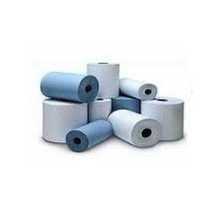tissue: (101, 104, 166, 150), (37, 94, 90, 147), (137, 92, 188, 145), (34, 67, 101, 106), (61, 114, 116, 155), (81, 58, 124, 102), (113, 73, 160, 103), (84, 94, 115, 127)
